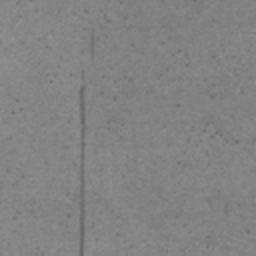Scratches: (78, 84, 88, 256)
